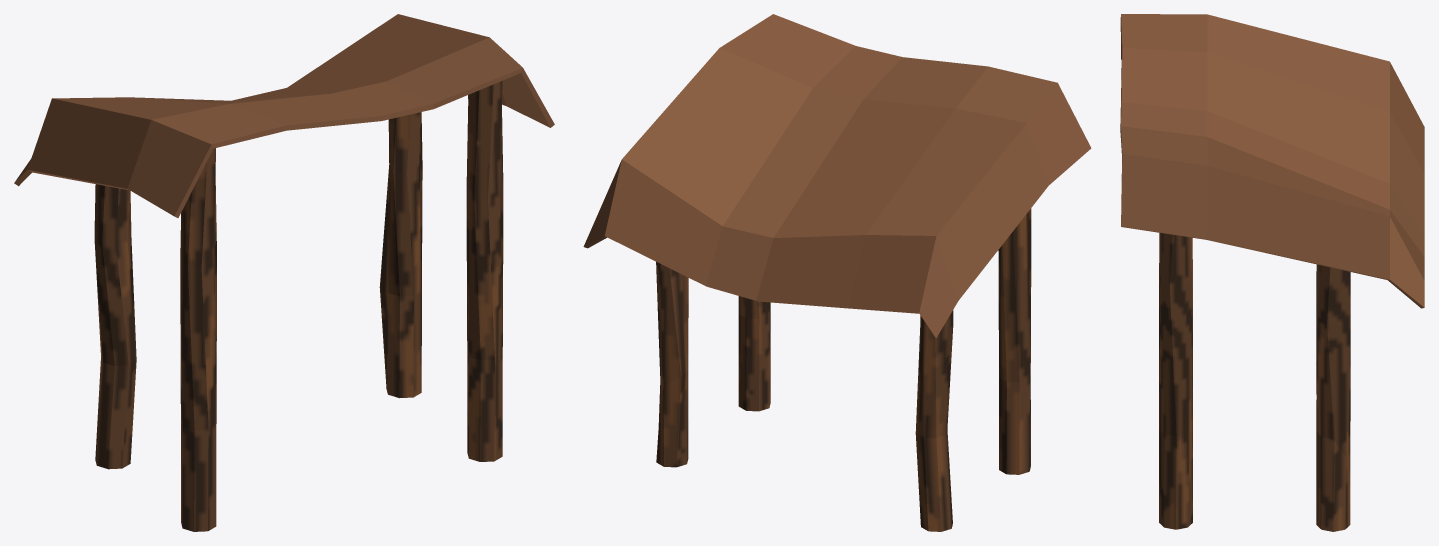
File: Building_Extras3.fbx
3 renders of one model, left to right at view 1: azimuth 30°, elevation 25°; view 2: azimuth 150°, elevation 25°; view 3: azimuth 270°, elevation 25°, orthographic. The views are drawn at different scales.
Parts seen in each view (by area): view 1: Plane.006; view 2: Plane.006; view 3: Plane.006.
Part boxes in pixels (x1,y1,x2,y2): Plane.006: (14, 14, 554, 531); Plane.006: (583, 14, 1091, 531); Plane.006: (1120, 14, 1424, 531).
Bounding box in the file's own units: 81.15 × 80 × 59.2.
